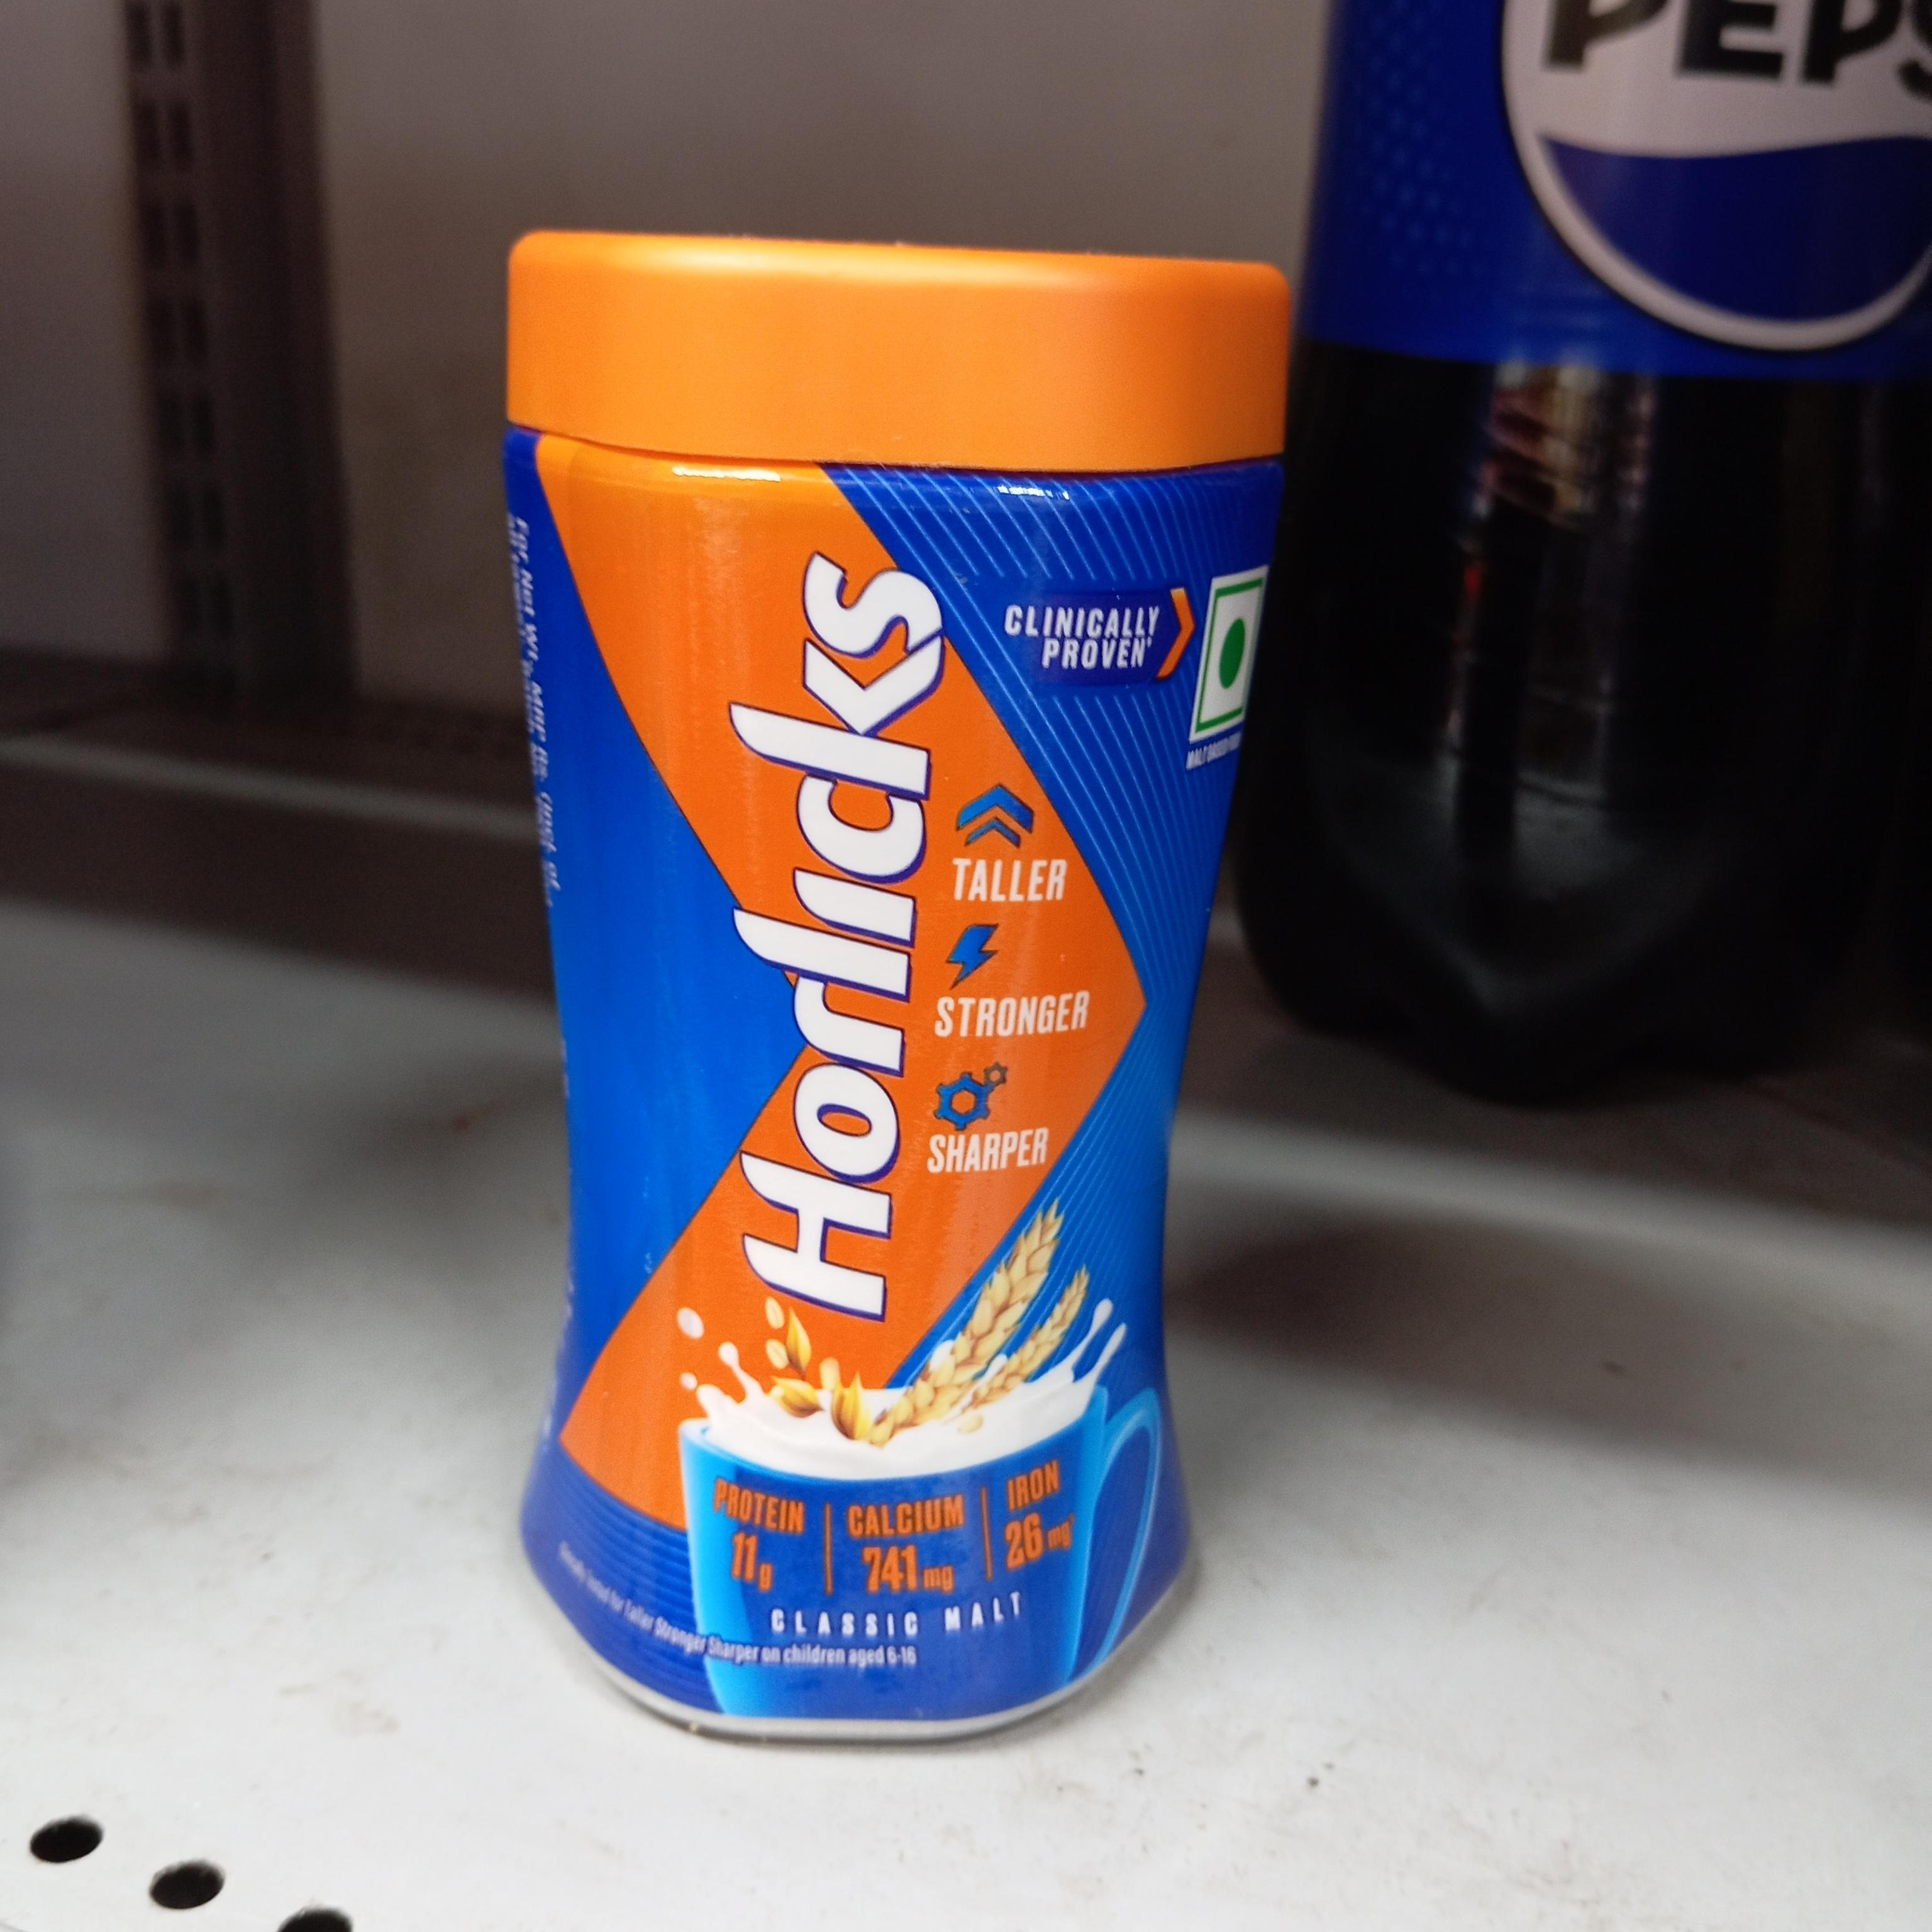HORLICK_CLASSIC_MALT_200_G_JAR: (510, 177, 1277, 1736)
